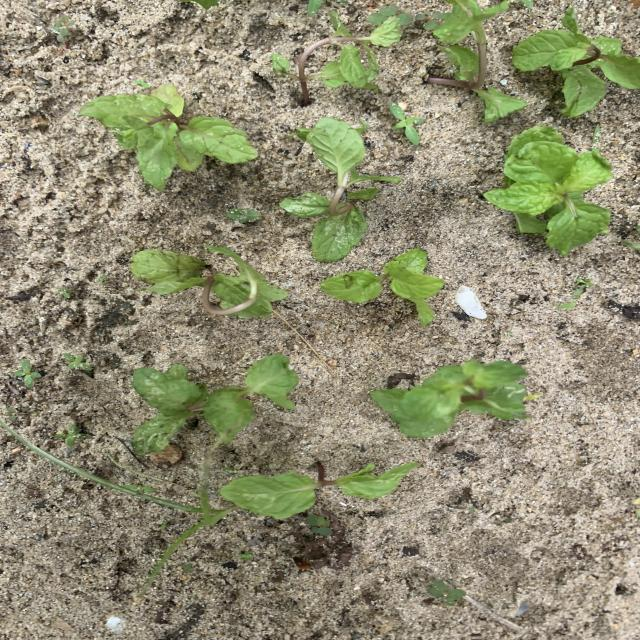crop: (79, 85, 257, 187), (282, 118, 401, 261), (131, 355, 297, 455), (483, 127, 611, 253), (513, 5, 639, 115), (371, 359, 531, 437), (272, 12, 400, 101), (129, 247, 287, 317), (433, 1, 525, 120), (221, 462, 418, 517), (321, 249, 443, 324)
weed: (0, 420, 232, 596), (391, 104, 423, 143), (428, 581, 465, 605), (14, 359, 40, 386), (369, 7, 402, 25), (415, 11, 447, 28), (307, 514, 331, 535), (53, 16, 74, 39), (64, 353, 91, 370), (227, 209, 259, 222), (394, 7, 412, 25), (575, 278, 591, 295), (6, 407, 28, 419), (557, 302, 576, 309), (58, 288, 71, 297), (134, 80, 150, 87), (594, 126, 600, 142), (359, 120, 368, 129), (238, 553, 251, 559)
